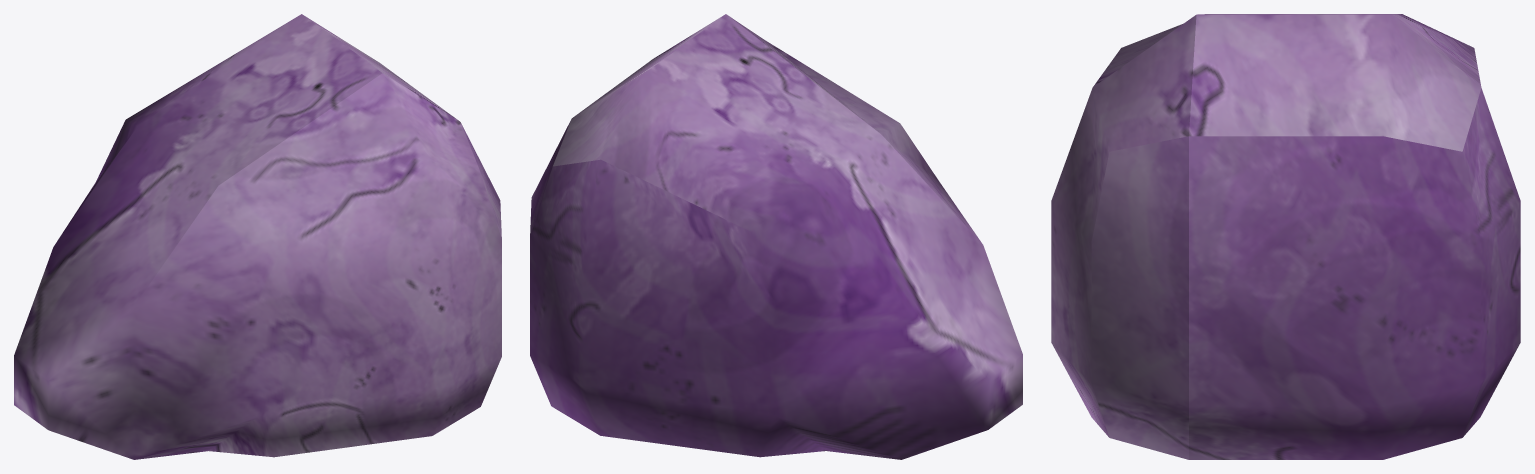
3 views of the same model, side by side, from view 1: azimuth 30°, elevation 25°; view 2: azimuth 150°, elevation 25°; view 3: azimuth 270°, elevation 25° (orthographic). The views are drawn at different scales.
Parts seen in each view (by area): view 1: Rock.001MeshLOD0; view 2: Rock.001MeshLOD0; view 3: Rock.001MeshLOD0.
Boxes of the visible parts, x1,y1,x2,y2 form: Rock.001MeshLOD0: (14, 14, 501, 459); Rock.001MeshLOD0: (530, 14, 1022, 459); Rock.001MeshLOD0: (1051, 14, 1520, 459).
Size of what is drawn, in the model's own units: 0.2105 by 0.1657 by 0.1663.
1 material, 1 textured.
